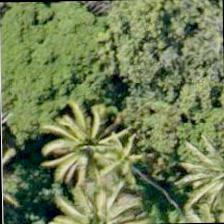Kelapa_Sawit: (52, 107, 144, 199)
